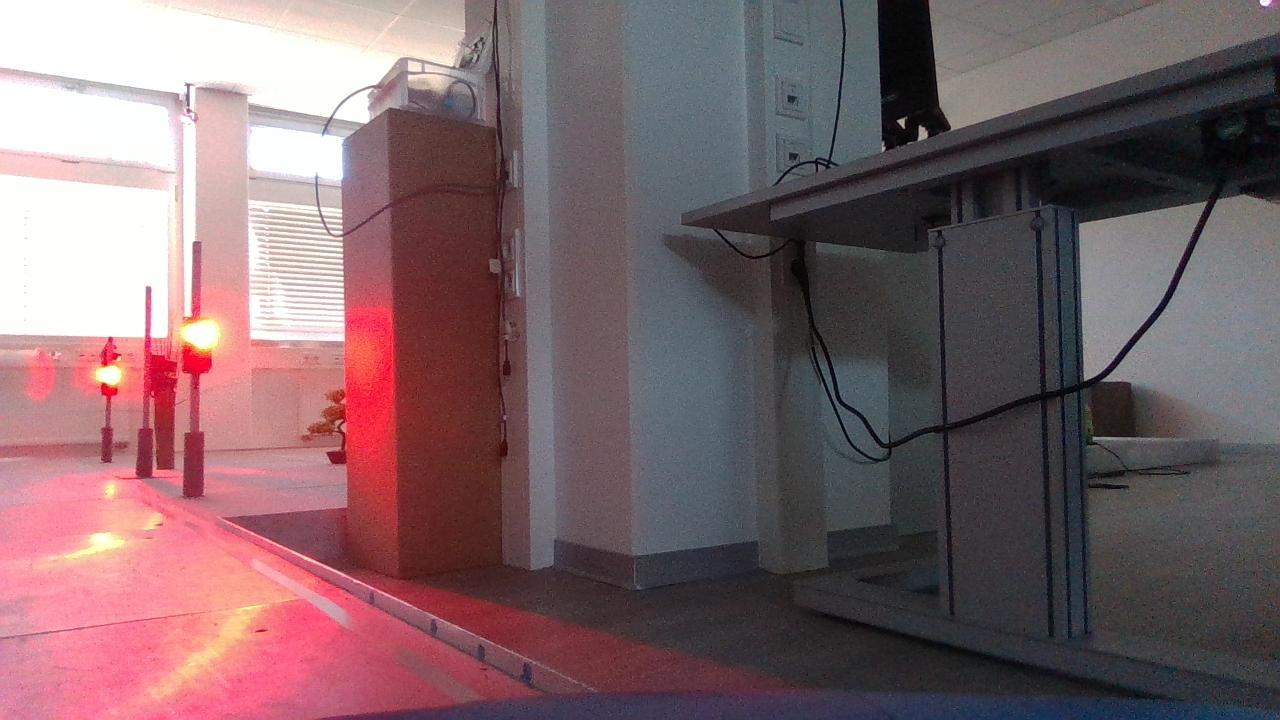traffic_light_red: (172, 310, 227, 392)
